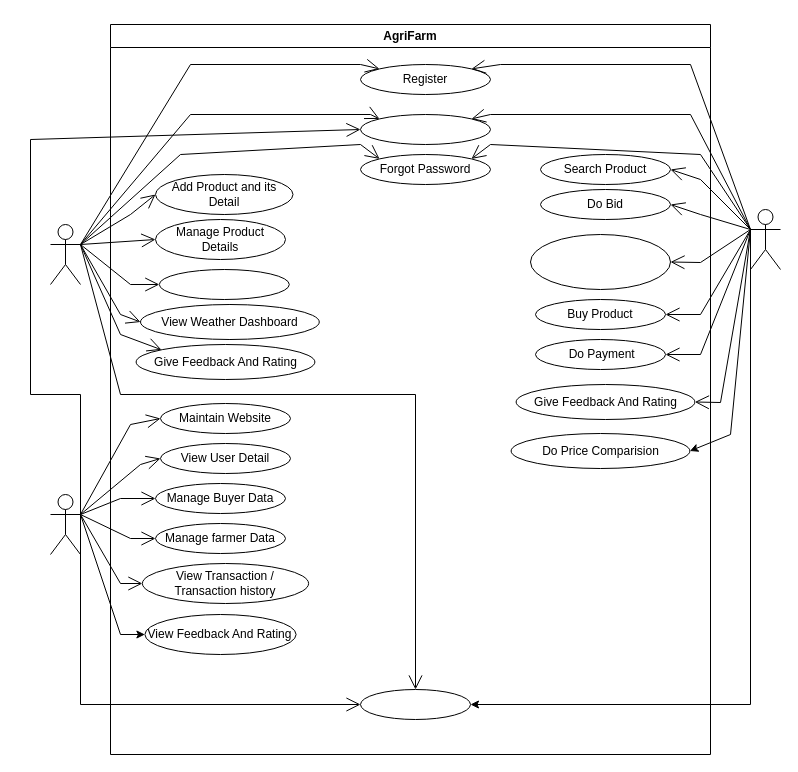
Some shapes in this 798 by 772 pixel diagram are drawn without their labels. The centre of each missing label's shape, as x and y in pixels:
"Admin" belongs at point (65, 524).
"Buyer" belongs at point (765, 239).
"Check bid" belongs at point (223, 284).
"Farmer" belongs at point (65, 254).
"Login" belongs at point (425, 129).
"Logout" belongs at point (415, 704).
"Select Product / Add to cart" belongs at point (600, 262).
